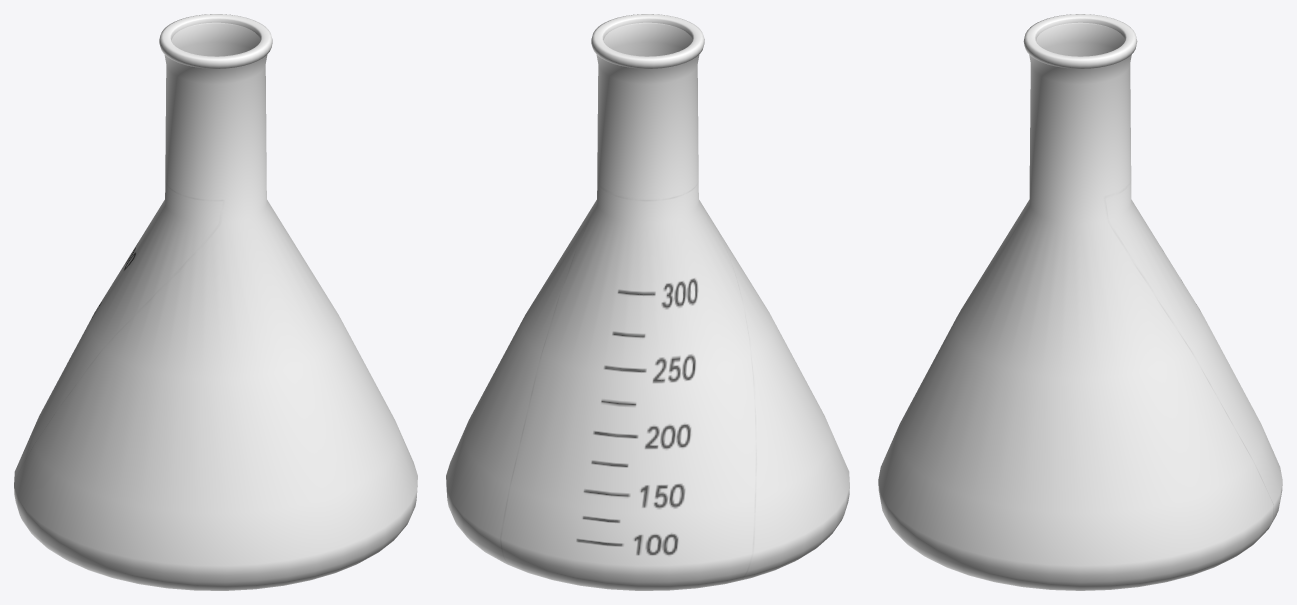
File: Flask1.fbx
3 renders of one model, left to right at view 1: azimuth 30°, elevation 25°; view 2: azimuth 150°, elevation 25°; view 3: azimuth 270°, elevation 25°, orthographic.
Parts seen in each view (by area): view 1: pCylinder1; view 2: pCylinder1; view 3: pCylinder1.
Part boxes in pixels (x1,y1,x2,y2): pCylinder1: (14,14,417,590); pCylinder1: (446,14,849,590); pCylinder1: (878,14,1282,590).
Bounding box in the file's own units: 1.98 × 2.57 × 1.98.
1 material, 1 textured.
